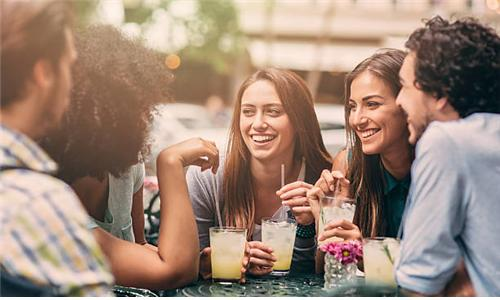alcohol: (258, 219, 298, 276), (314, 193, 356, 247), (209, 229, 248, 282)
